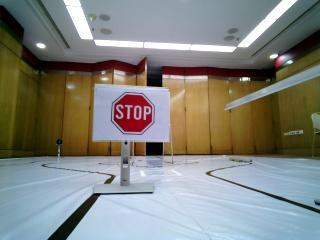stop: (94, 87, 169, 139)
